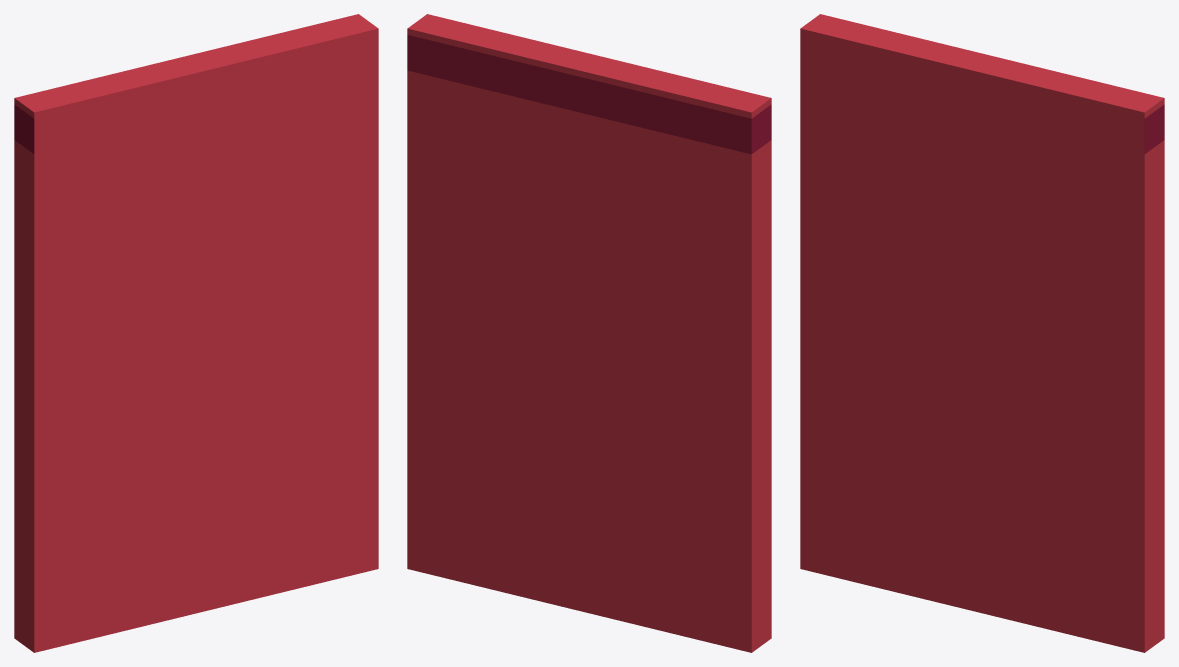
The model's file is fasade.fbx.
3 renders of one model, left to right at view 1: azimuth 30°, elevation 25°; view 2: azimuth 150°, elevation 25°; view 3: azimuth 330°, elevation 25°, orthographic.
Visible parts, largest first — view 1: fasade; view 2: fasade; view 3: fasade.
Boxes of the visible parts, <box> form: fasade: <box>14,14,378,652</box>; fasade: <box>407,14,771,652</box>; fasade: <box>800,14,1164,652</box>.
Size of the model in its own units: 2 by 3 by 0.2.
